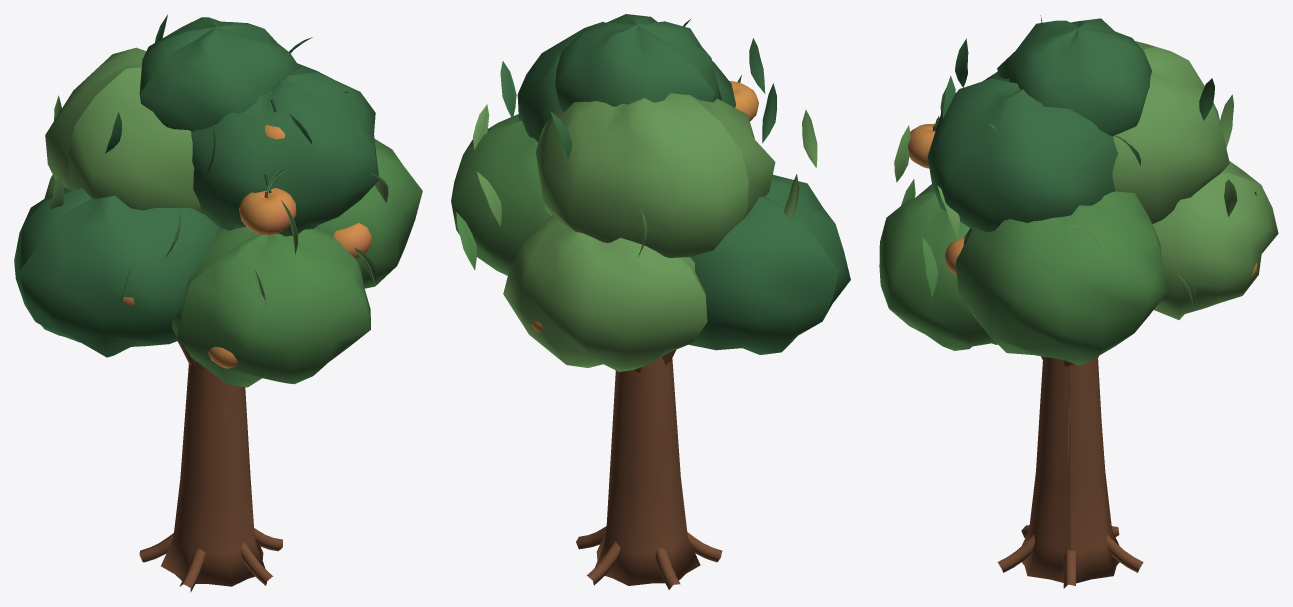
File: duraznero.glb
3 views of the same model, side by side, from view 1: azimuth 30°, elevation 25°; view 2: azimuth 150°, elevation 25°; view 3: azimuth 270°, elevation 25° (orthographic).
Parts seen in each view (by area): view 1: duraznero_copa_viento_0, duraznero; view 2: duraznero_copa_viento_0, duraznero; view 3: duraznero_copa_viento_0, duraznero.
Part boxes in pixels (box(x1,y1,x2,y2)): duraznero_copa_viento_0: box(14, 14, 422, 387); duraznero: box(139, 340, 282, 592); duraznero_copa_viento_0: box(451, 14, 850, 371); duraznero: box(576, 350, 722, 589); duraznero_copa_viento_0: box(879, 15, 1278, 365); duraznero: box(997, 356, 1143, 588).
Bounding box in the file's own units: 1.67 × 2.23 × 1.5.
